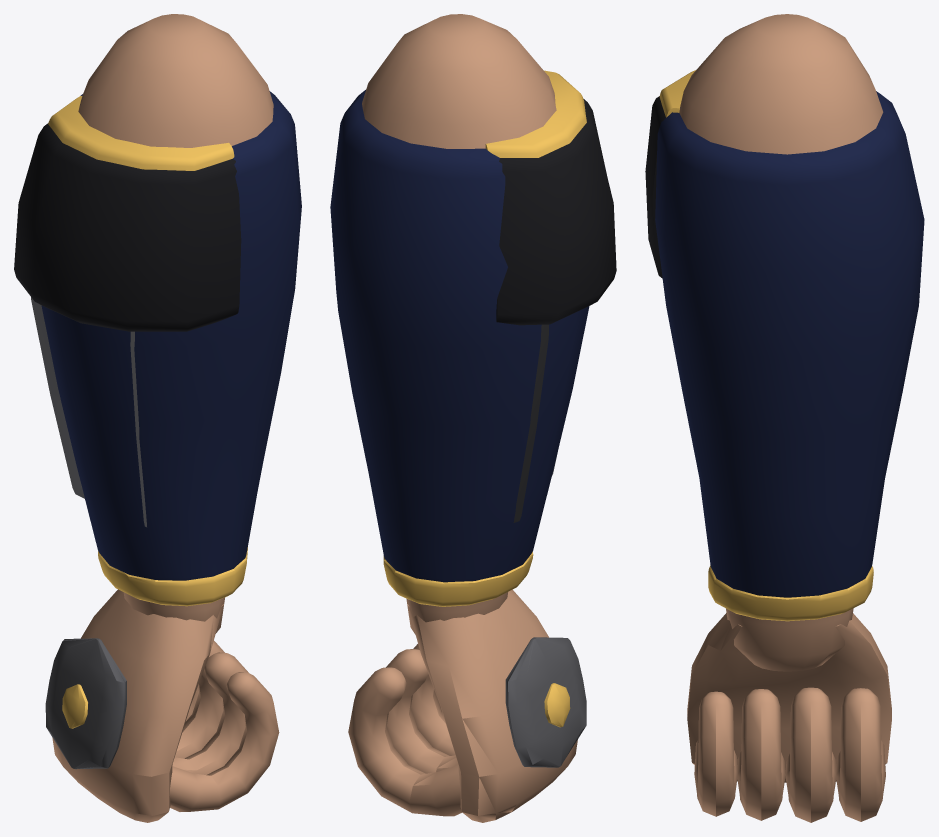
Rendered from forearm_l.glb.
3 renders of one model, left to right at view 1: azimuth 30°, elevation 25°; view 2: azimuth 150°, elevation 25°; view 3: azimuth 270°, elevation 25°, orthographic. The views are drawn at different scales.
Parts seen in each view (by area): view 1: OUT; view 2: OUT; view 3: OUT.
Boxes of the visible parts, <box> form: OUT: <box>14,14,301,822</box>; OUT: <box>330,14,616,822</box>; OUT: <box>645,14,924,822</box>.
Size of the model in its own units: 0.1271 by 0.367 by 0.1176.
